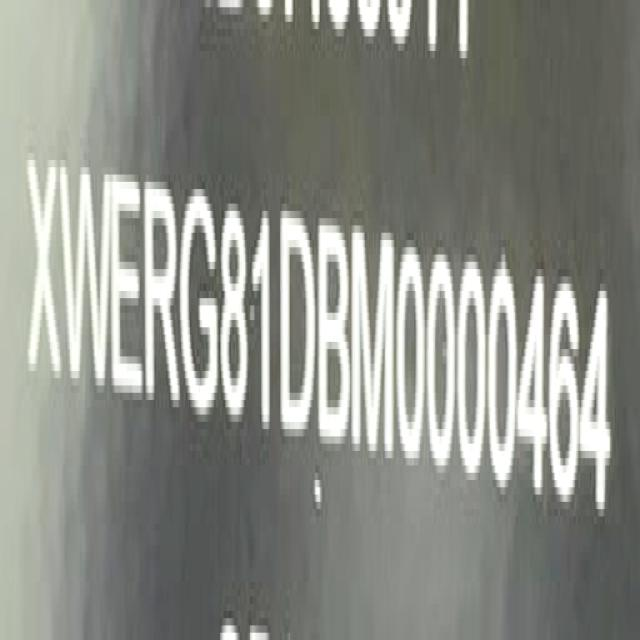0: (454, 250, 486, 488), (397, 234, 428, 478), (428, 239, 459, 480), (490, 256, 518, 498)
1: (253, 202, 277, 440)
4: (582, 278, 616, 530), (518, 261, 550, 507)
6: (550, 269, 582, 518)
8: (218, 197, 251, 433)
B: (318, 210, 352, 457)
D: (279, 200, 315, 445)
E: (112, 153, 146, 419)
G: (180, 166, 222, 421)
M: (352, 217, 398, 469)
R: (144, 163, 181, 423)
W: (61, 143, 115, 414)
X: (27, 137, 62, 400)
